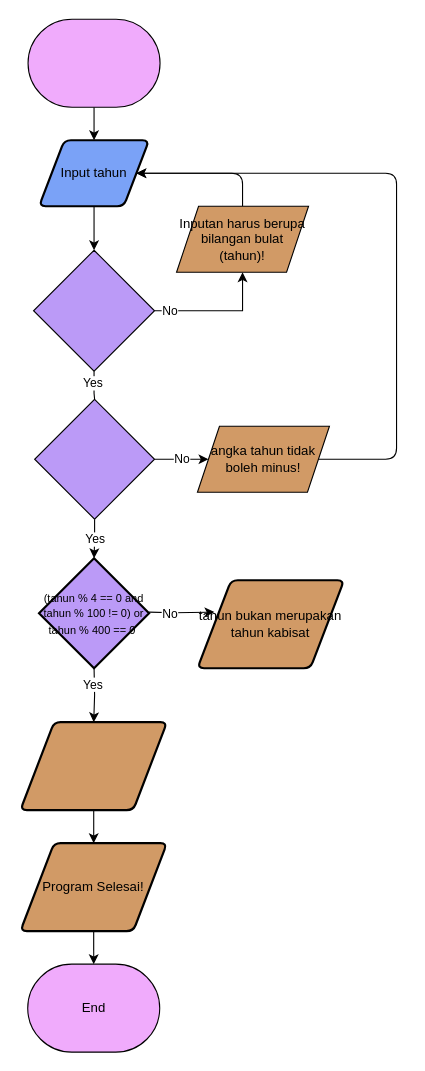
The diagram is 425 pixels wide and 1071 high, and some of its shapes have lost their labels. The shapes that lost their labels are listed below. From the top down, each one's box as (x1, y1, x2, y2) in pixels, then its label:
(27, 18, 160, 107): Start
(32, 249, 155, 371): type(tahun) == int
(34, 398, 155, 519): tahun > 0
(19, 721, 168, 811): tahun merupakan tahun kabisat
